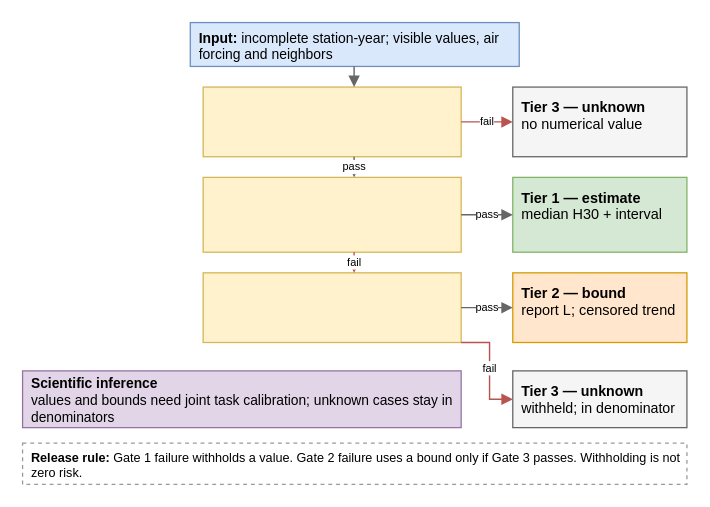
The diagram is 710 pixels wide and 507 high, and some of its shapes have lost their labels. Each missing label, with the box of its shape:
Gate 1 — visible quality air substitution or exposure flag?: (202, 86, 461, 157)
Gate 2 — range and risk source support; group risk at or below the cap: (202, 176, 461, 252)
Gate 3 — observed window fully observed 30-day mean available?: (202, 272, 461, 342)
